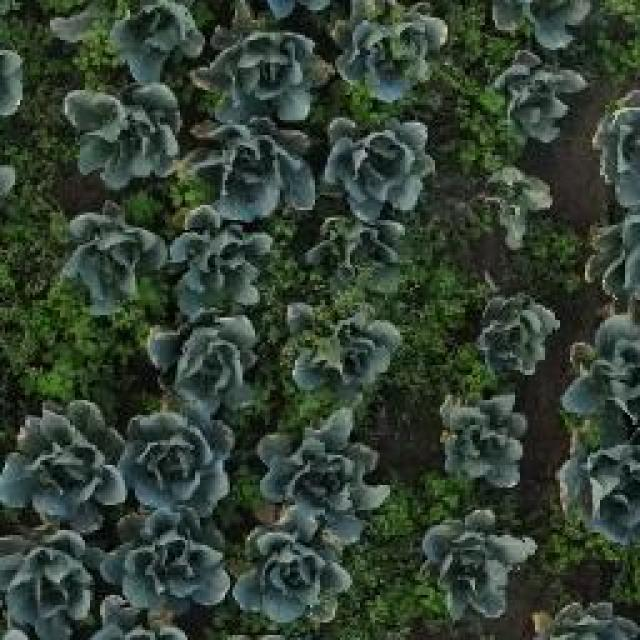cabbage: (183, 115, 327, 221), (230, 510, 358, 627), (0, 398, 123, 515), (255, 404, 390, 510), (0, 516, 113, 639), (188, 18, 332, 114), (106, 507, 229, 619), (60, 77, 184, 186), (419, 502, 538, 615), (146, 304, 268, 408), (160, 210, 284, 312), (121, 404, 240, 510), (59, 201, 169, 313), (329, 0, 447, 104), (556, 406, 640, 551), (325, 106, 434, 212), (281, 295, 394, 397), (488, 47, 596, 148), (433, 388, 528, 494), (469, 284, 563, 382), (473, 158, 559, 258), (306, 209, 406, 290)
